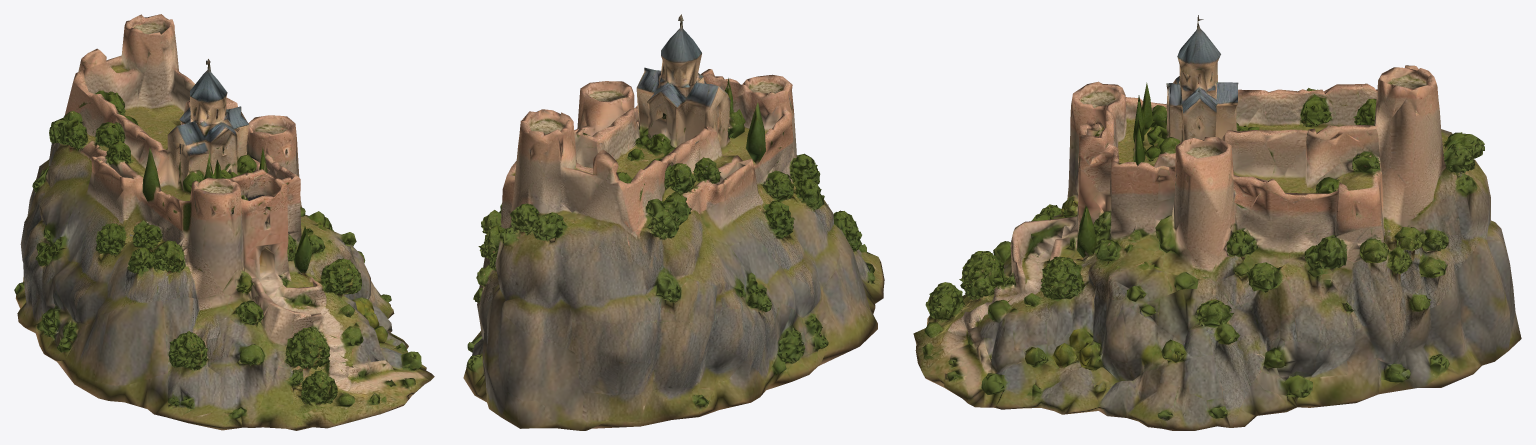
File: m_tb_narikala.glb
3 views of the same model, side by side, from view 1: azimuth 30°, elevation 25°; view 2: azimuth 150°, elevation 25°; view 3: azimuth 270°, elevation 25° (orthographic). The views are drawn at different scales.
Bounding box in the file's own units: 0.6975 × 0.5821 × 0.9982.
Materials: 1 (1 with a texture image).
